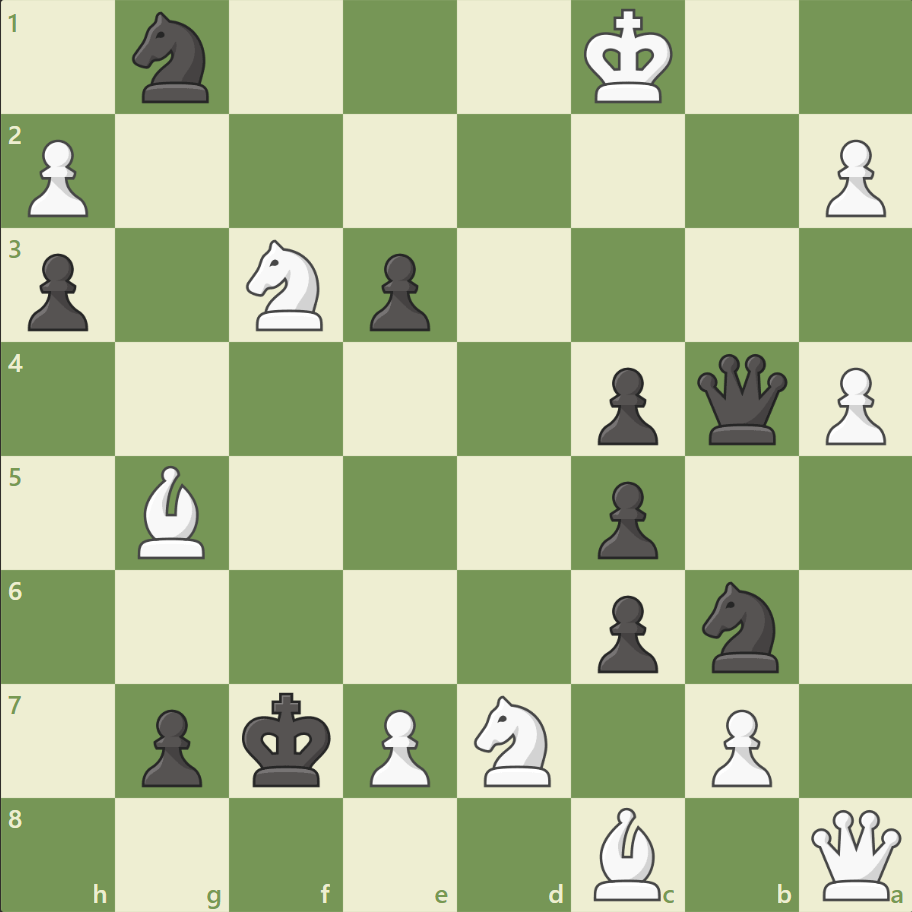B: (585, 801, 669, 904), (131, 460, 215, 563)
K: (579, 4, 679, 112)
N: (465, 688, 562, 791), (238, 234, 335, 337)
P: (701, 700, 776, 791), (20, 132, 95, 223), (361, 700, 435, 791), (815, 359, 889, 450), (815, 132, 889, 223)
Q: (805, 804, 904, 903)
k: (238, 685, 338, 793)
n: (124, 7, 222, 110), (692, 575, 789, 677)
p: (133, 700, 208, 791), (20, 246, 95, 337), (588, 586, 662, 677), (588, 473, 662, 564), (588, 359, 662, 450), (361, 246, 435, 337)
q: (691, 349, 790, 449)
